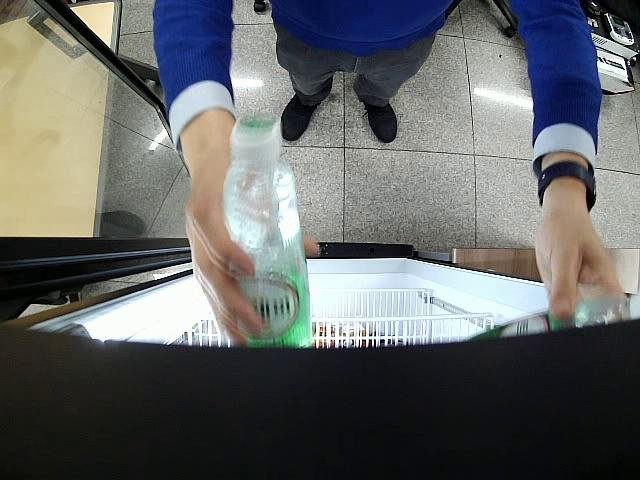00_hand: (180, 134, 262, 347), (535, 199, 622, 316)
18_trevi: (225, 114, 313, 351), (467, 295, 630, 342)
